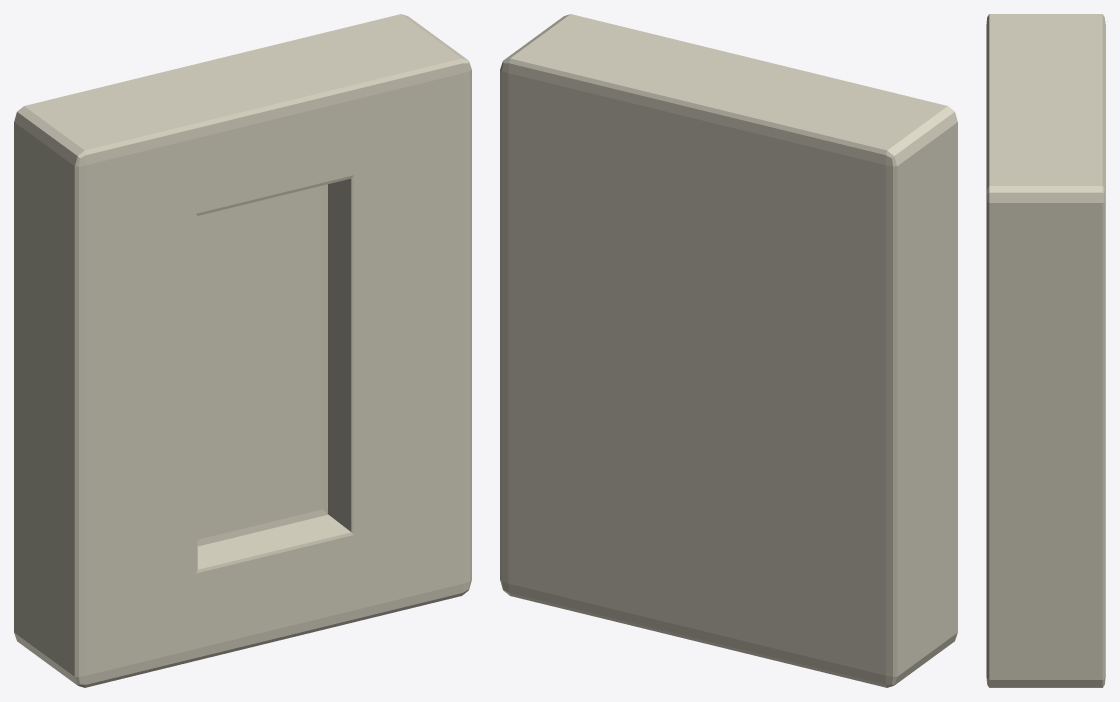
File: lightswitch_main.fbx
3 views of the same model, side by side, from view 1: azimuth 30°, elevation 25°; view 2: azimuth 150°, elevation 25°; view 3: azimuth 270°, elevation 25° (orthographic). The views are drawn at different scales.
Parts seen in each view (by area): view 1: neolightswitchmain; view 2: neolightswitchmain; view 3: neolightswitchmain.
Part boxes in pixels (x1=…): neolightswitchmain: x1=14, y1=14, x2=471, y2=687; neolightswitchmain: x1=500, y1=14, x2=957, y2=687; neolightswitchmain: x1=986, y1=14, x2=1105, y2=687.
Size of the model in its own units: 20.44 by 26.44 by 5.7.
